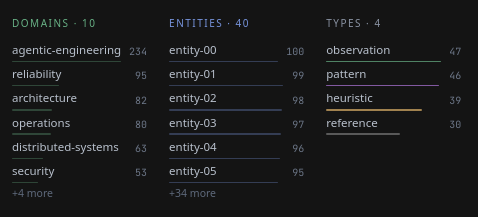
Test: overflow browser › says so when nothing matches, rather than showing a blank pane
This screenshot has width=478, height=217.
Click the text with test id "facet-more" showing "+4 more" at (32, 193), box x1=12 y1=186 x2=53 y2=200
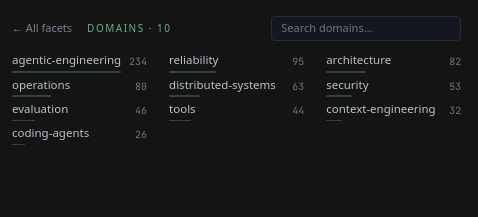
Type "nope" into the field with test id "facet-search" at (366, 29), box x1=271 y1=16 x2=461 y2=41
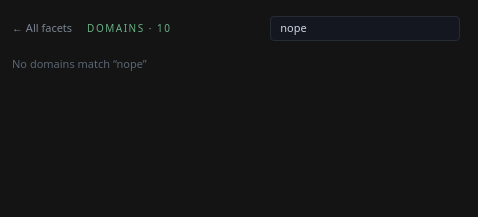
Expected: the text with test id "facet-no-match" shows "No domains match", x1=12 y1=56 x2=147 y2=71
Expected: no elements with test id "tag-item" are shown
